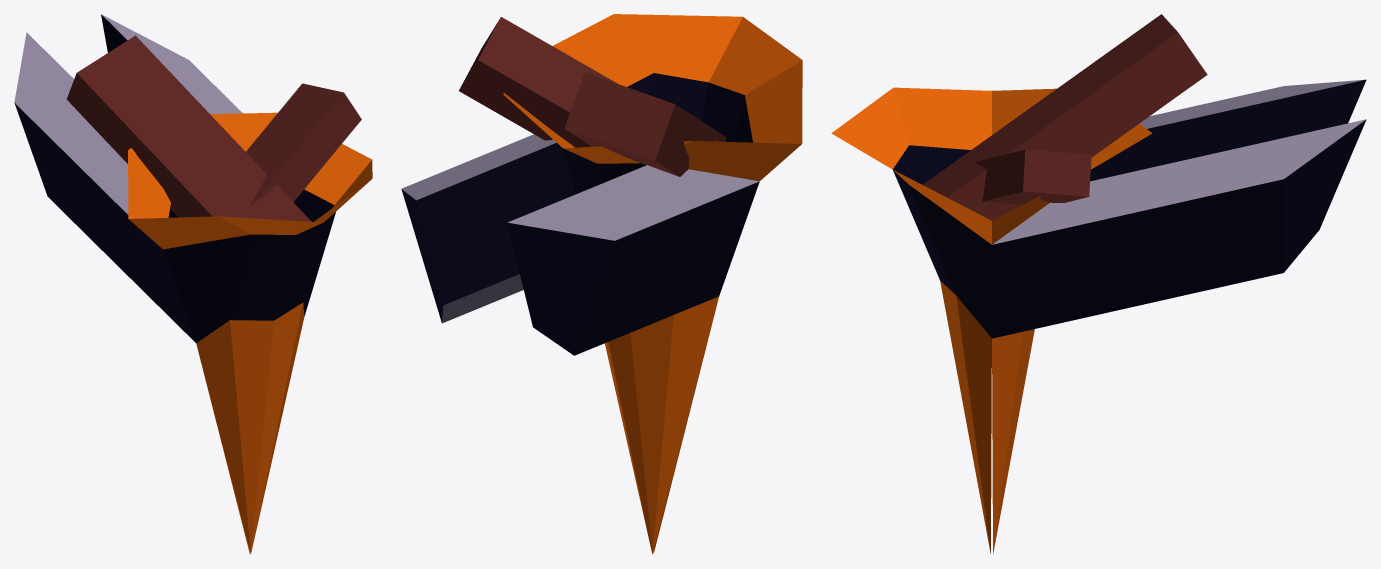
Rendered from Torch.glb.
3 renders of one model, left to right at view 1: azimuth 30°, elevation 25°; view 2: azimuth 150°, elevation 25°; view 3: azimuth 270°, elevation 25°, orthographic. The views are drawn at different scales.
Parts seen in each view (by area): view 1: Base, Wood1, Wood2; view 2: Base, Wood2, Wood1; view 3: Base, Wood1, Wood2.
Boxes of the visible parts, left/top/right/bottom form: Base: left=14, top=14, right=372, bottom=554; Wood1: left=66, top=35, right=311, bottom=221; Wood2: left=246, top=83, right=361, bottom=206; Base: left=401, top=14, right=802, bottom=554; Wood2: left=459, top=17, right=718, bottom=147; Wood1: left=564, top=72, right=726, bottom=176; Base: left=831, top=79, right=1366, bottom=554; Wood1: left=923, top=14, right=1207, bottom=220; Wood2: left=975, top=149, right=1091, bottom=204.
Size of the model in its own units: 0.7257 by 1.3 by 1.24.
2 materials, 2 textured.
